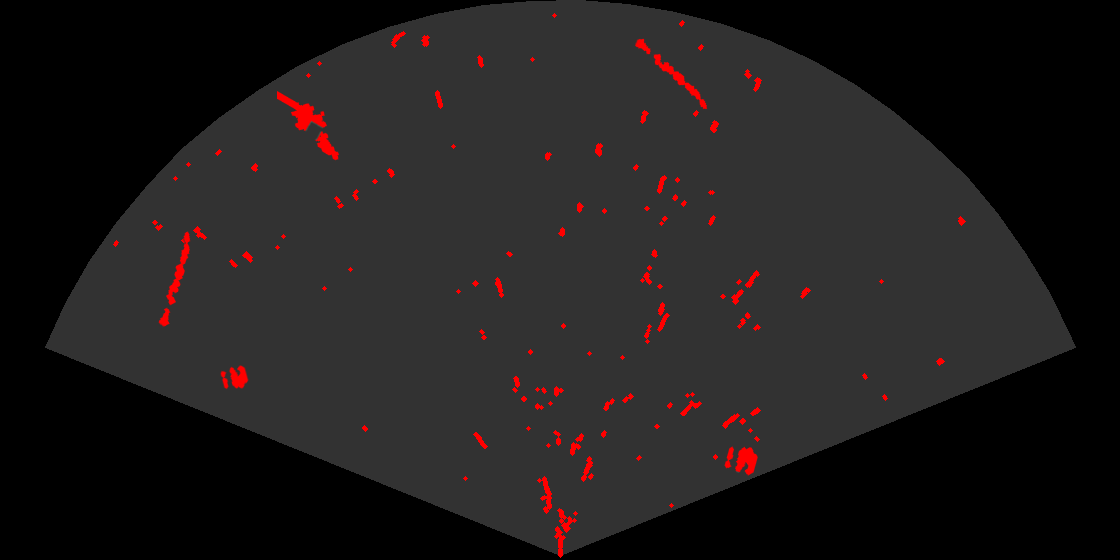ball: (723, 445, 759, 477), (219, 364, 250, 391)
chain: (633, 37, 709, 111), (157, 230, 192, 329)
frogman: (277, 90, 341, 162)
